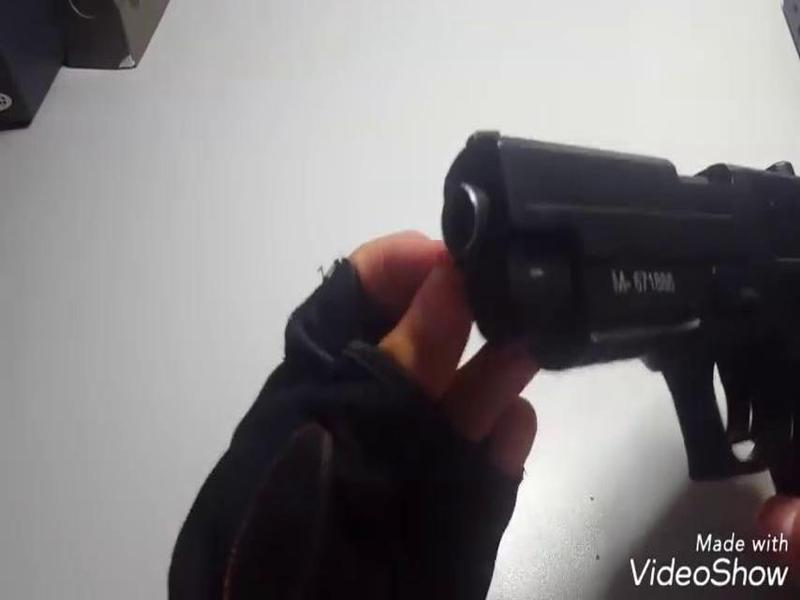Pistola: (422, 107, 800, 493)
